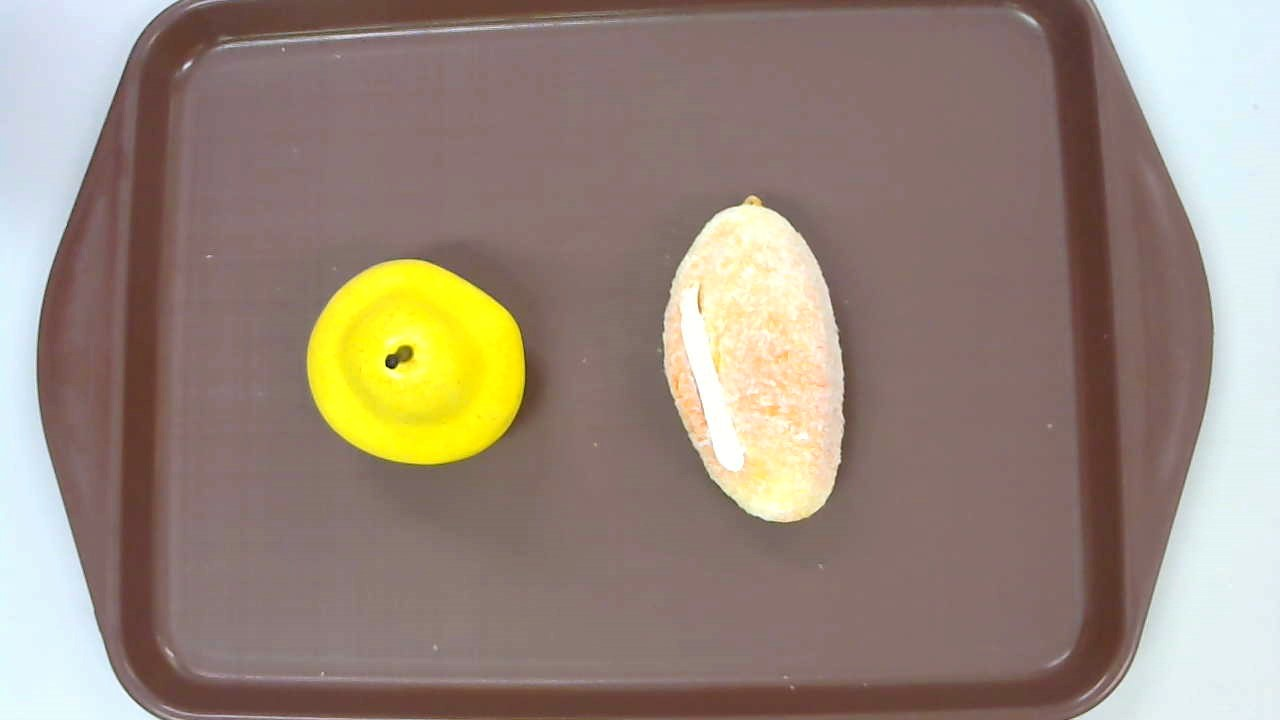coconut: (662, 195, 845, 522)
yellow pear: (305, 257, 525, 467)
